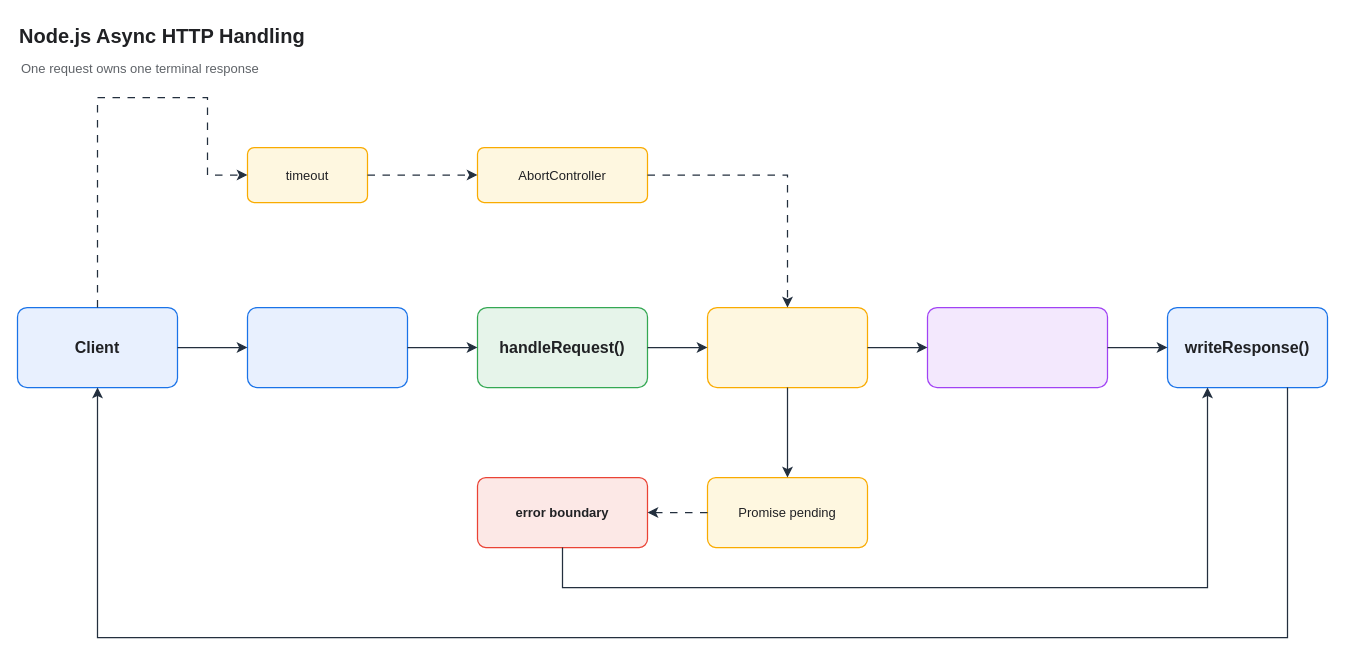
Image size: 1346x664. Some labels were removed from this diagram. The box of each missing label's shape, as (x1, y1, x2, y2) in pixels:
fetchJson(): (706, 306, 868, 388)
request event: (246, 306, 408, 388)
Upstream HTTP service: (926, 306, 1108, 388)
